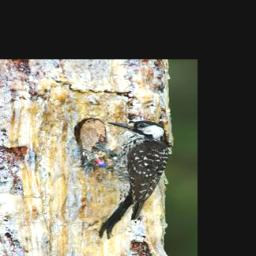Woodpecker: (82, 120, 171, 238)
